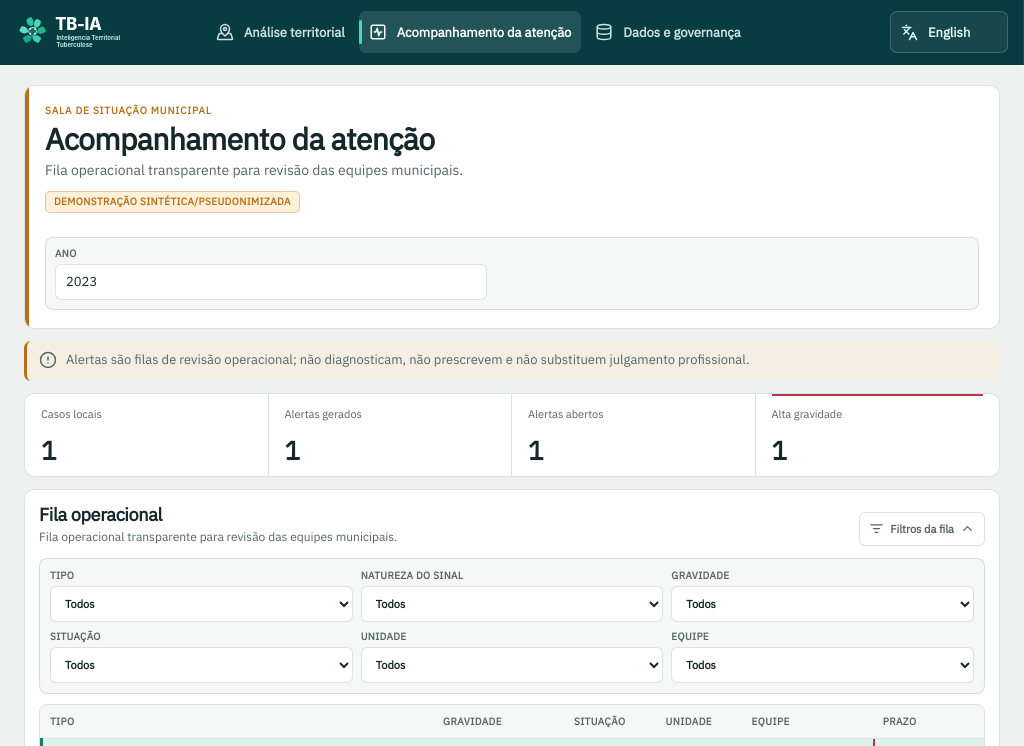
Test: App › filters and presents structured resistance evidence
Select "Evidência final explícita de resistência" in the dropdown labelled "Natureza do sinal" at (512, 604), box x1=361 y1=586 x2=663 y2=622
(page scrolled)
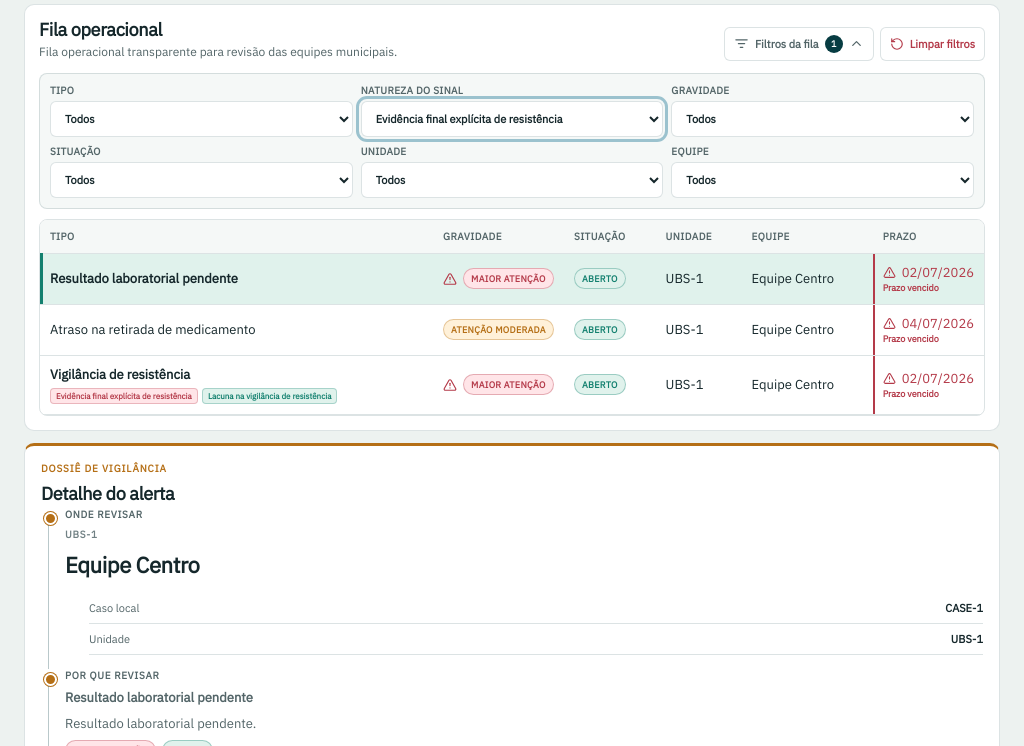
Click the row "Vigilância de resistência" at (512, 385), box x1=40 y1=355 x2=984 y2=414
(page scrolled)
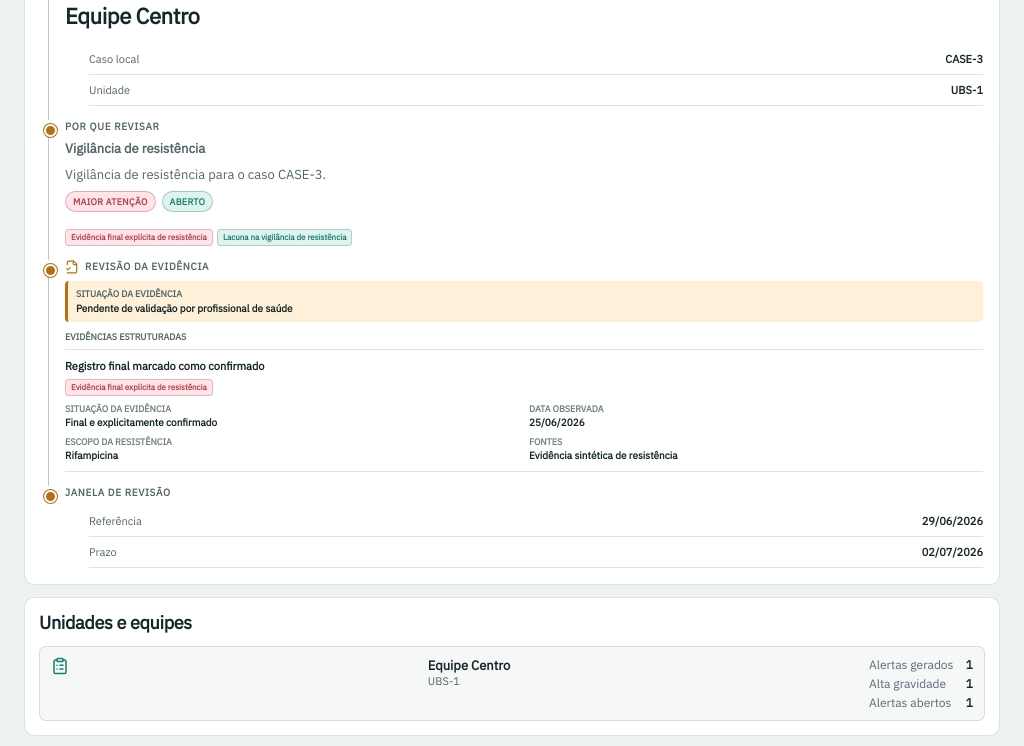
Expected: the text "Registro final marcado como confirmado" is shown, x1=65 y1=359 x2=264 y2=373
Expected: the text "Pendente de validação por profissional de saúde" is shown, x1=76 y1=302 x2=293 y2=315
Expected: the text "Final e explicitamente confirmado" is shown, x1=65 y1=416 x2=217 y2=429
